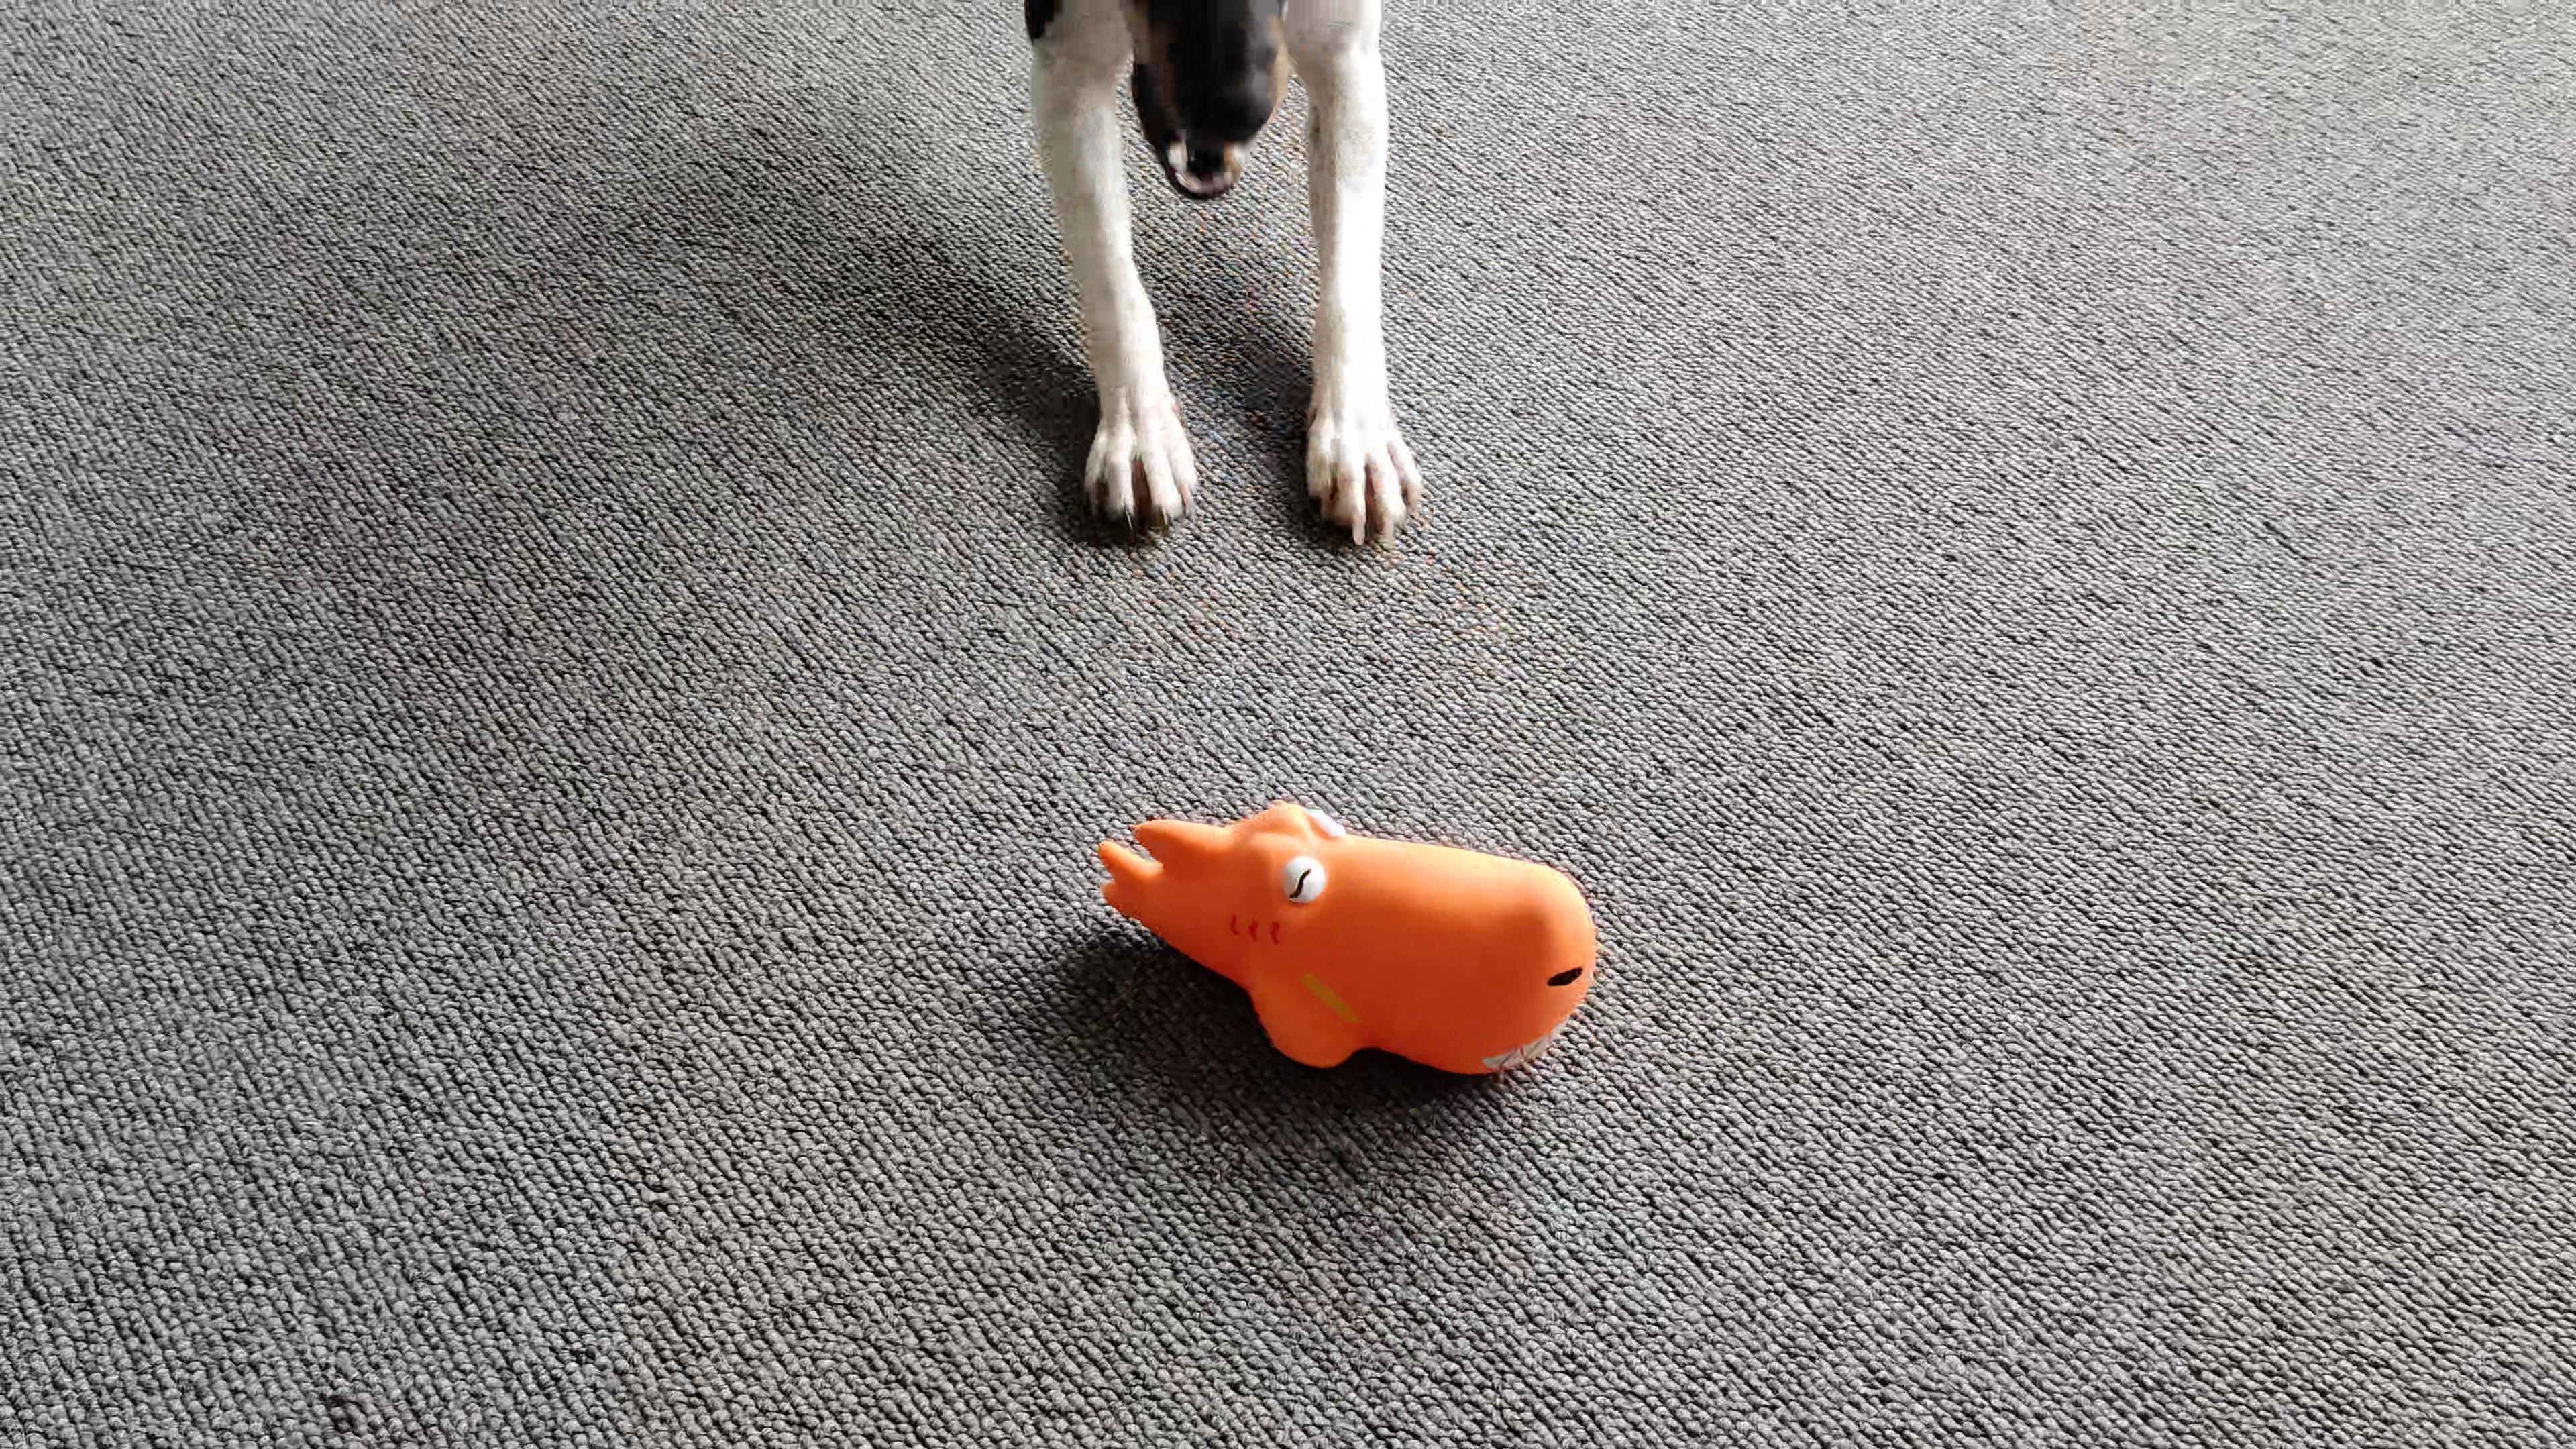Dog: (1001, 0, 1444, 557)
